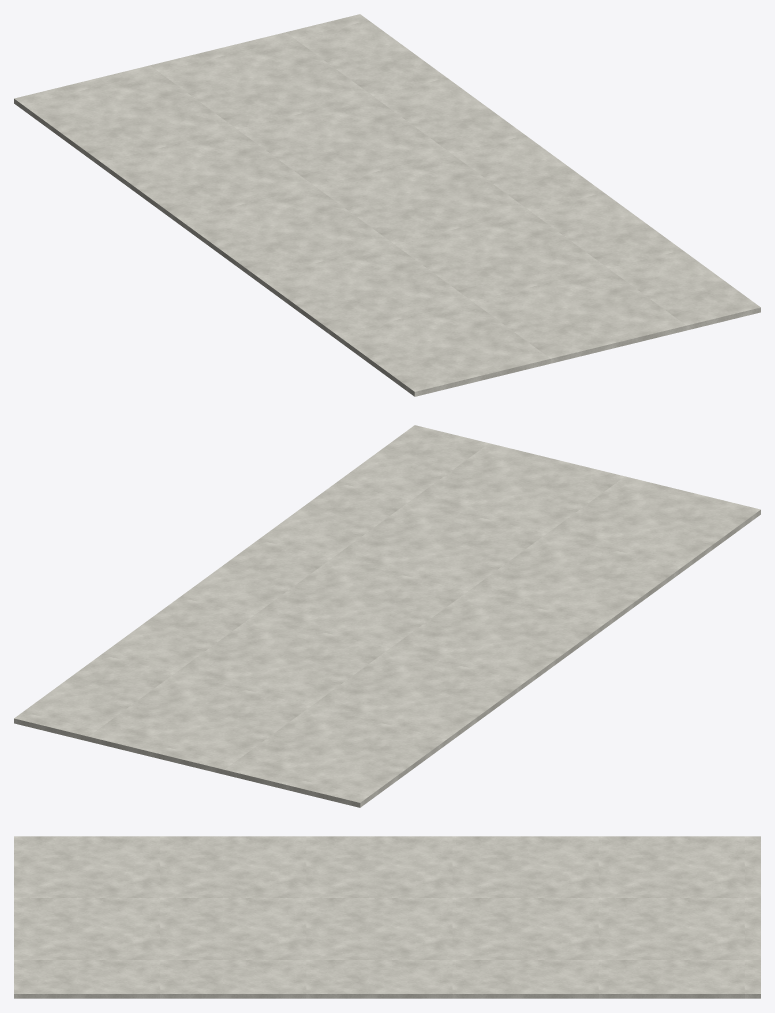
The model's file is Apartment_Unit_Ceiling.glb.
The picture shows the model from 3 angles, top to bottom: view 1: azimuth 30°, elevation 25°; view 2: azimuth 150°, elevation 25°; view 3: azimuth 270°, elevation 25°; orthographic projection. The views are drawn at different scales.
Visible parts, largest first — view 1: VIS_Plaster_Ceiling_0000; view 2: VIS_Plaster_Ceiling_0000; view 3: VIS_Plaster_Ceiling_0000.
Part boxes in pixels (x1=…): VIS_Plaster_Ceiling_0000: x1=14, y1=14, x2=760, y2=396; VIS_Plaster_Ceiling_0000: x1=14, y1=425, x2=760, y2=807; VIS_Plaster_Ceiling_0000: x1=14, y1=836, x2=760, y2=998.
Size of the model in its own units: 3.64 by 0.08 by 7.3.
3 materials, 3 textured.
